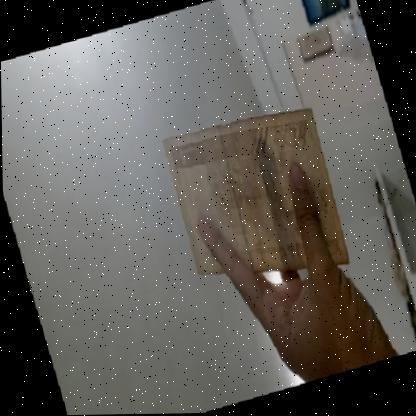five-back-vef: (164, 102, 350, 296)
